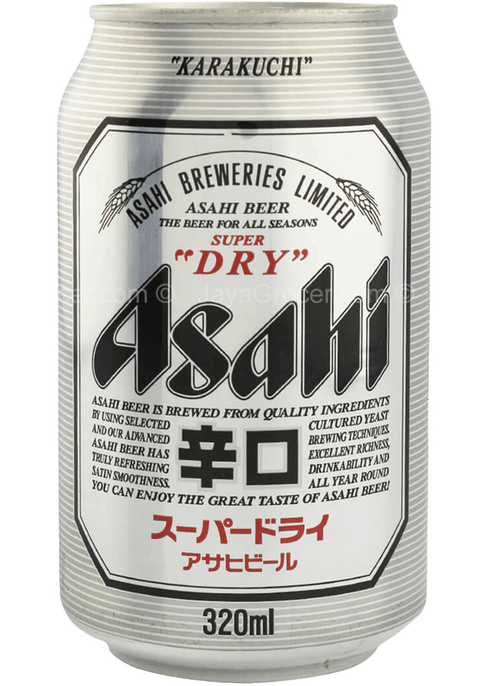beer can: (54, 2, 429, 679)
